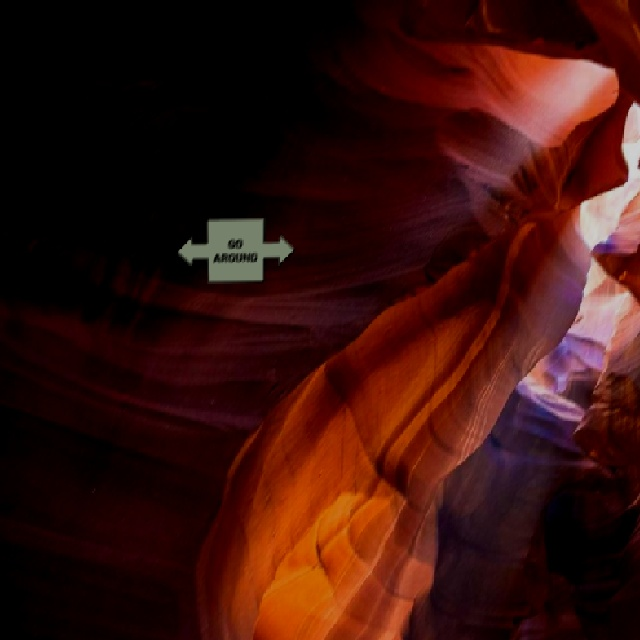GO_AROUND: (175, 216, 294, 281)
